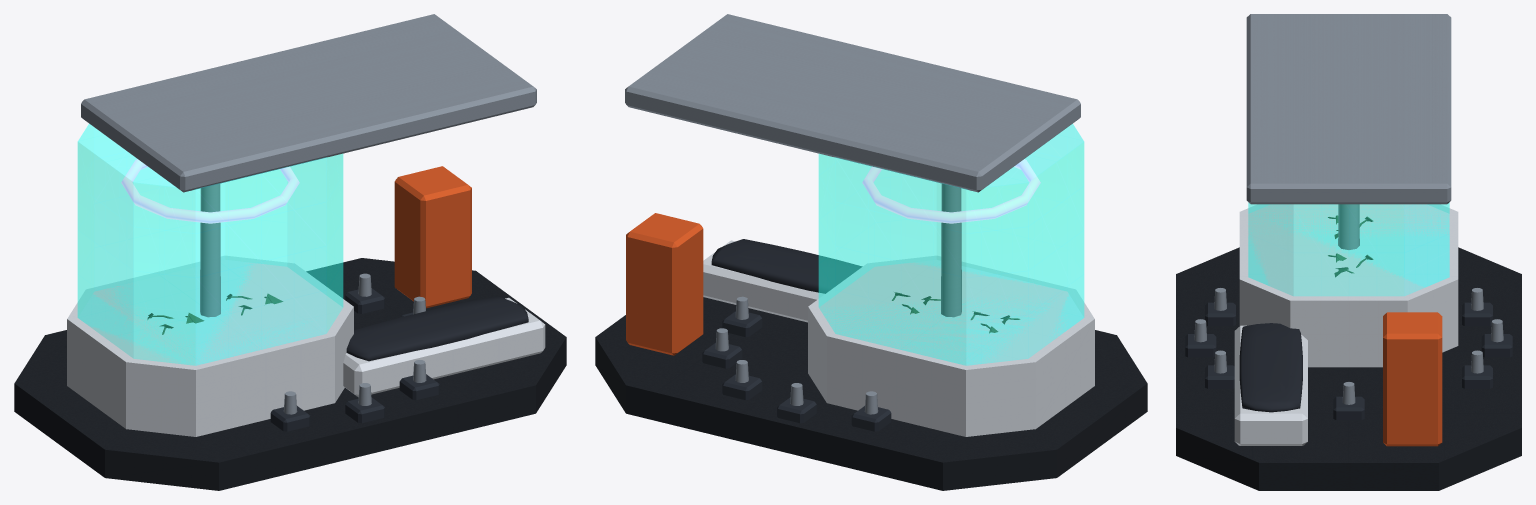
File: prop_04_r1_05.glb
3 renders of one model, left to right at view 1: azimuth 30°, elevation 25°; view 2: azimuth 150°, elevation 25°; view 3: azimuth 270°, elevation 25°, orthographic.
Visible parts, largest first — view 1: Prop04_C05_glass_emerald, Prop04_C05_steel_machined, Prop04_C05_aero_white, Prop04_C05_gunmetal, Prop04_C05_accent_orange, Prop04_C05_pad_charcoal, Prop04_C05_carbon_slate, Prop04_C05_led_uv; view 2: Prop04_C05_glass_emerald, Prop04_C05_steel_machined, Prop04_C05_aero_white, Prop04_C05_gunmetal, Prop04_C05_accent_orange, Prop04_C05_pad_charcoal, Prop04_C05_carbon_slate, Prop04_C05_led_uv; view 3: Prop04_C05_steel_machined, Prop04_C05_gunmetal, Prop04_C05_aero_white, Prop04_C05_glass_emerald, Prop04_C05_accent_orange, Prop04_C05_pad_charcoal, Prop04_C05_carbon_slate.
Boxes of the visible parts, x1=… form: Prop04_C05_glass_emerald: x1=77, y1=124, x2=343, y2=365; Prop04_C05_steel_machined: x1=81, y1=14, x2=536, y2=414; Prop04_C05_aero_white: x1=67, y1=255, x2=545, y2=436; Prop04_C05_gunmetal: x1=14, y1=258, x2=566, y2=490; Prop04_C05_accent_orange: x1=394, y1=166, x2=471, y2=308; Prop04_C05_pad_charcoal: x1=346, y1=296, x2=528, y2=361; Prop04_C05_carbon_slate: x1=270, y1=288, x2=439, y2=431; Prop04_C05_led_uv: x1=121, y1=159, x2=299, y2=223; Prop04_C05_glass_emerald: x1=818, y1=124, x2=1084, y2=365; Prop04_C05_steel_machined: x1=625, y1=14, x2=1080, y2=414; Prop04_C05_aero_white: x1=703, y1=240, x2=1094, y2=436; Prop04_C05_gunmetal: x1=595, y1=297, x2=1147, y2=490; Prop04_C05_accent_orange: x1=626, y1=213, x2=703, y2=355; Prop04_C05_pad_charcoal: x1=711, y1=239, x2=862, y2=293; Prop04_C05_carbon_slate: x1=702, y1=311, x2=891, y2=431; Prop04_C05_led_uv: x1=862, y1=159, x2=1040, y2=223; Prop04_C05_steel_machined: x1=1194, y1=14, x2=1503, y2=404; Prop04_C05_gunmetal: x1=1176, y1=247, x2=1521, y2=490; Prop04_C05_aero_white: x1=1234, y1=204, x2=1458, y2=445; Prop04_C05_glass_emerald: x1=1248, y1=202, x2=1449, y2=295; Prop04_C05_accent_orange: x1=1383, y1=312, x2=1442, y2=446; Prop04_C05_pad_charcoal: x1=1239, y1=323, x2=1302, y2=412; Prop04_C05_carbon_slate: x1=1185, y1=302, x2=1512, y2=420.
Bounding box in the file's own units: 3.75 × 2.26 × 2.45.
10 materials, 10 textured.
